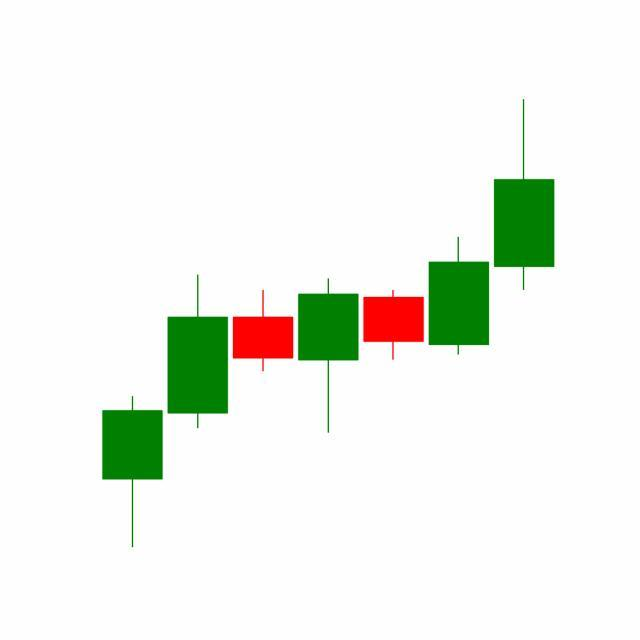Hikkake Pattern: (165, 235, 492, 436)
